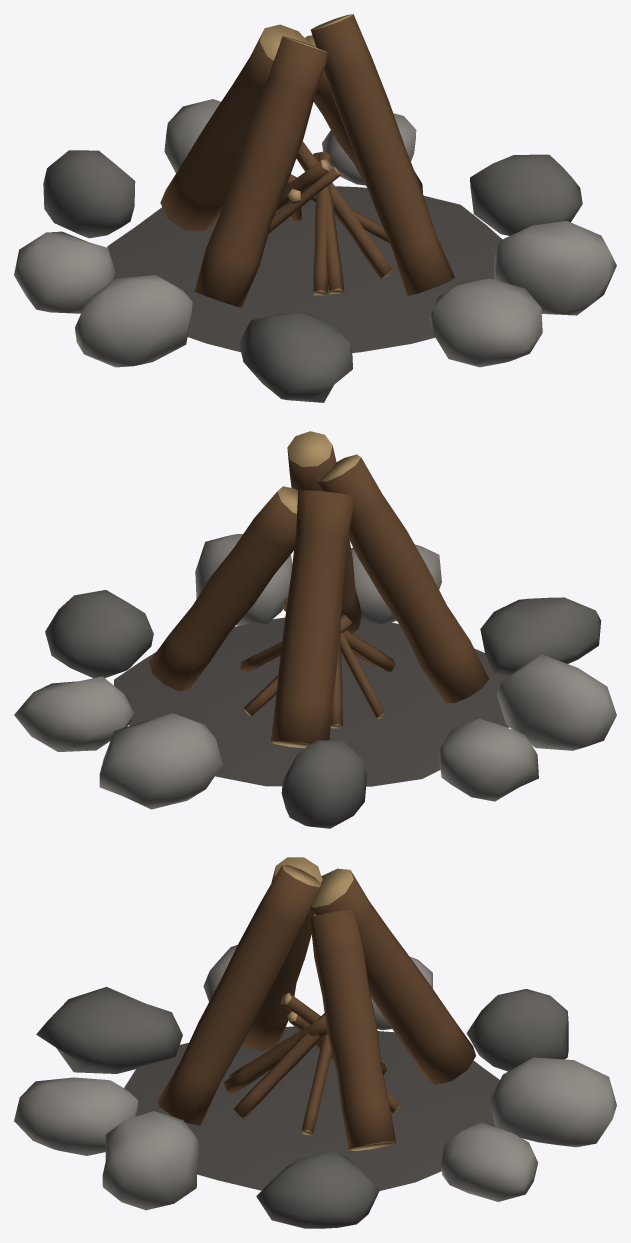
File: feu_camp.glb
The picture shows the model from 3 angles, top to bottom: view 1: azimuth 30°, elevation 25°; view 2: azimuth 150°, elevation 25°; view 3: azimuth 270°, elevation 25°; orthographic projection. The views are drawn at different scales.
Parts seen in each view (by area): view 1: Feu_camp; view 2: Feu_camp; view 3: Feu_camp.
Part boxes in pixels (<box>): Feu_camp: <box>14,14,616,402</box>; Feu_camp: <box>14,431,616,828</box>; Feu_camp: <box>14,857,616,1228</box>.
Bounding box in the file's own units: 0.8064 × 0.4061 × 0.8189.
